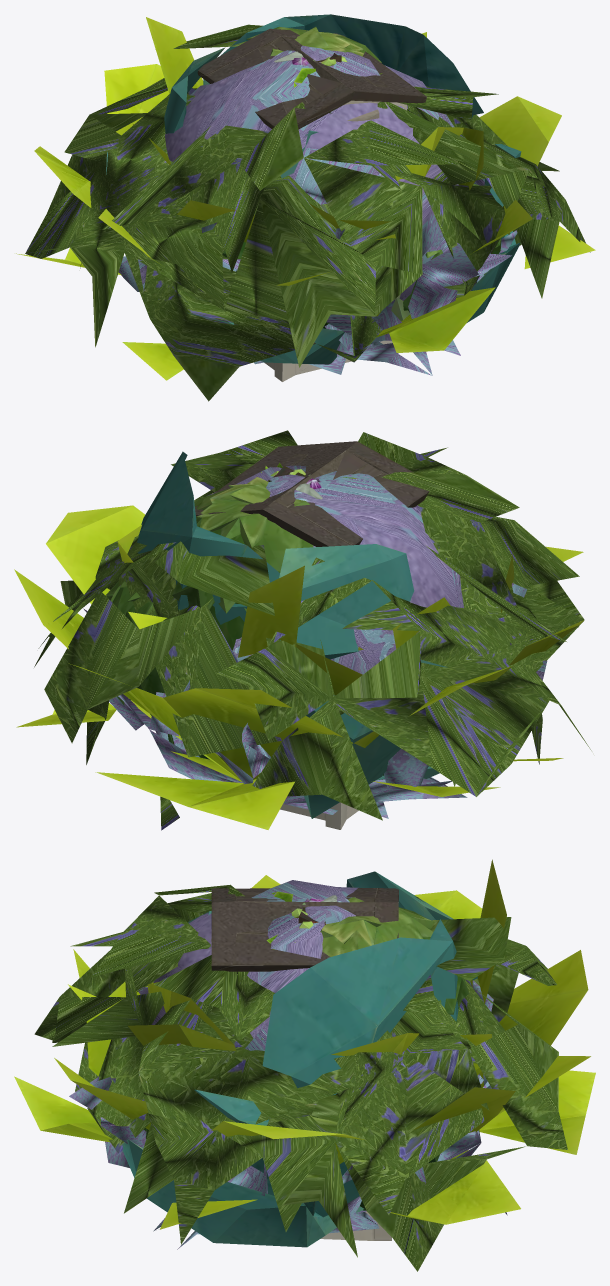
Rendered from orto.glb.
The picture shows the model from 3 angles, top to bottom: view 1: azimuth 30°, elevation 25°; view 2: azimuth 150°, elevation 25°; view 3: azimuth 270°, elevation 25°; orthographic projection. The views are drawn at different scales.
Parts seen in each view (by area): view 1: vine, lavender, lettuce, cabbage, beehive, bush; view 2: vine, lettuce, lavender, cabbage, beehive, bush; view 3: vine, lettuce, cabbage, lavender, beehive, bush.
Boxes of the visible parts, x1,y1,x2,y2 form: vine: (25,24,590,401); lavender: (118,45,517,375); lettuce: (16,17,595,380); cabbage: (106,14,521,364); beehive: (197,28,426,381); bush: (222,26,501,328); vine: (34,430,591,830); lettuce: (14,493,583,829); lavender: (83,465,547,818); cabbage: (137,451,447,818); beehive: (195,441,429,829); bush: (105,477,383,775); vine: (34,884,567,1271); lettuce: (14,859,595,1229); cabbage: (122,871,477,1247); lavender: (69,880,493,1249); beehive: (211,888,398,1240); bush: (144,897,468,1210).
Bounding box in the file's own units: 1.79 × 1 × 1.74.
13 materials, 13 textured.
